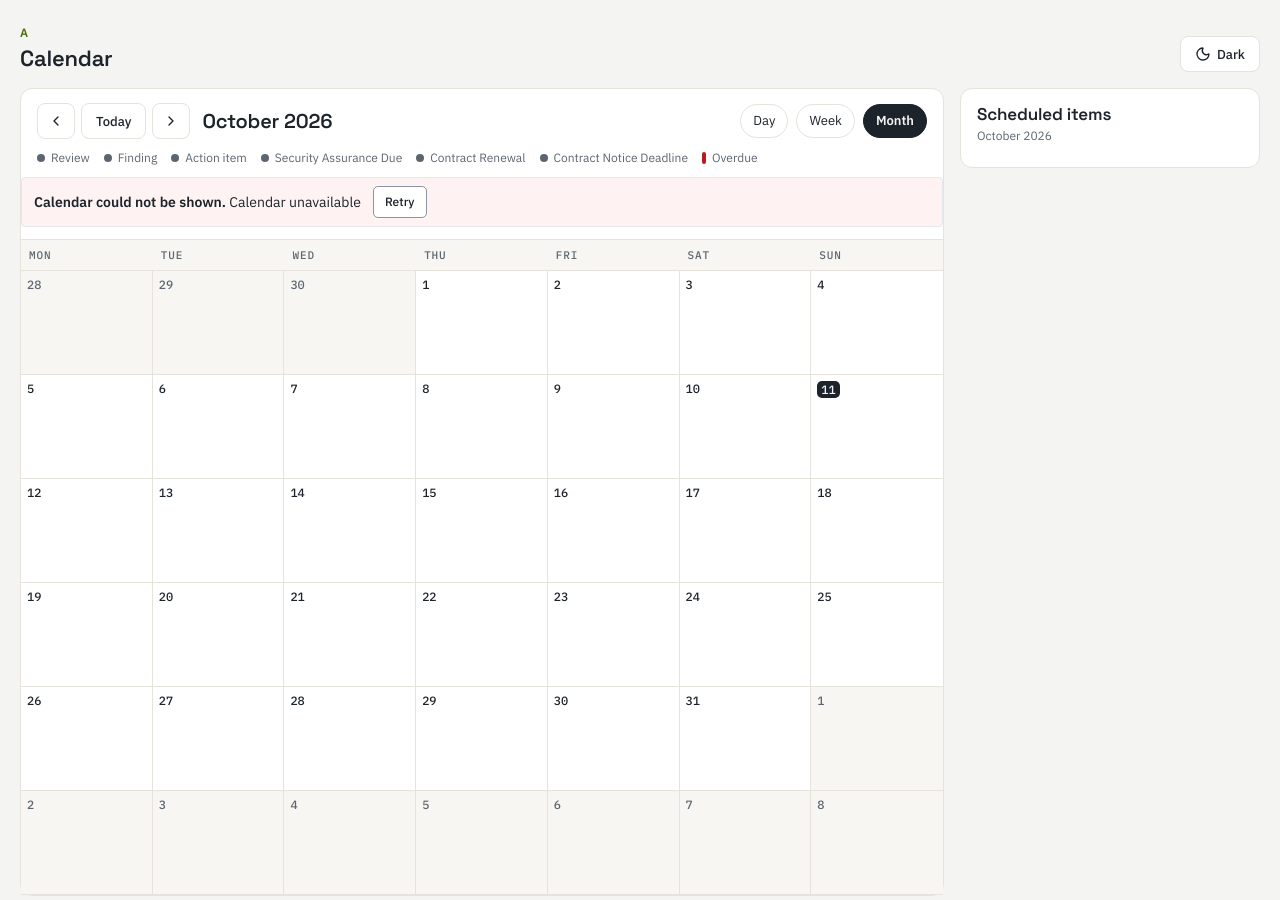
errors are explicit and retryable, not rendered as successful empty calendars
Expected: the message "Calendar could not be shown. Calendar unavailable Retry" is shown, [21,177,943,227]
Click the button "Retry" at (400, 202), box [373,186,426,218]
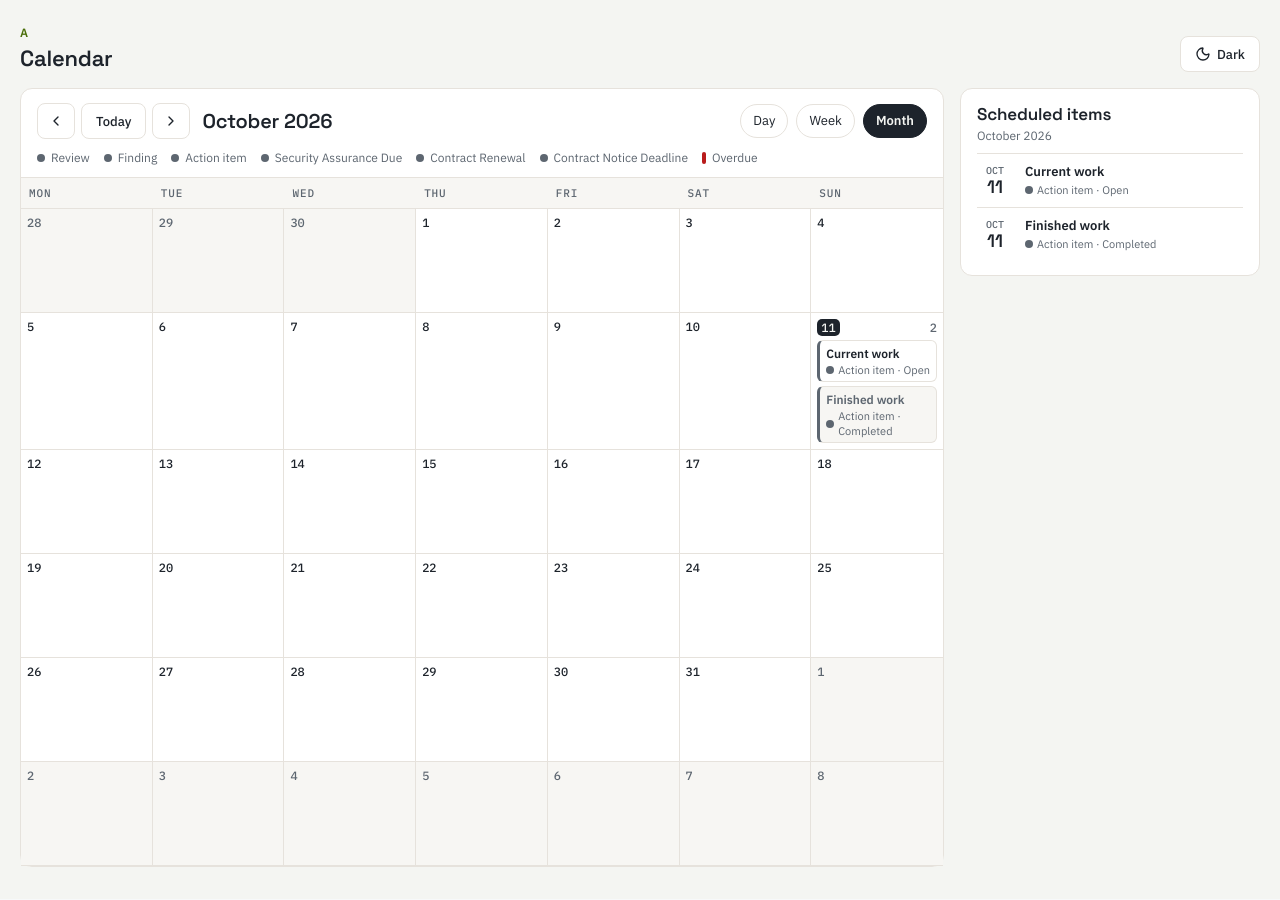
Now the message "Calendar could not be shown. Calendar unavailable Retry" is gone
Now the text "Current work" is shown, box [826,346,900,361]
